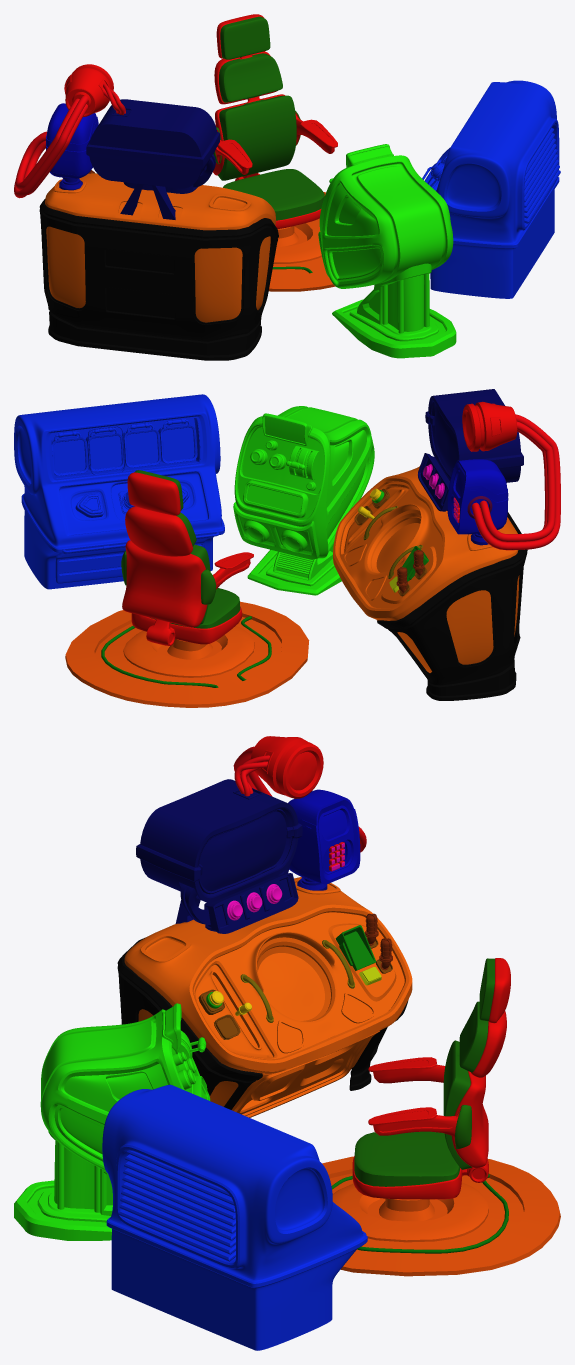
File: MachineIterTwo.fbx
3 views of the same model, one above another, from view 1: azimuth 30°, elevation 25°; view 2: azimuth 150°, elevation 25°; view 3: azimuth 270°, elevation 25° (orthographic). The views are drawn at different scales.
Parts seen in each view (by area): view 1: Maquina3Base, Maquina2Base, Maquina1Base, Mk4, Chair, ChairBase; view 2: Maquina3Base, Maquina2Base, Maquina1Base, ChairBase, Mk4, Chair, Screen4_MK2, Screen3_MK2, Screen1_MK2, Screen2_MK2, Lights_MK2; view 3: Maquina2Base, Maquina3Base, Mk4, Maquina1Base, Chair, ChairBase.
Boxes of the visible parts, <box> form: Maquina3Base: <box>39,170,278,360</box>; Maquina2Base: <box>422,80,560,298</box>; Maquina1Base: <box>318,144,456,358</box>; Mk4: <box>14,64,220,219</box>; Chair: <box>213,14,337,228</box>; ChairBase: <box>268,192,335,291</box>; Maquina3Base: <box>333,465,527,700</box>; Maquina2Base: <box>14,394,224,589</box>; Maquina1Base: <box>233,406,374,595</box>; ChairBase: <box>65,601,309,707</box>; Mk4: <box>418,389,560,550</box>; Chair: <box>121,470,253,645</box>; Screen4_MK2: <box>158,424,197,463</box>; Screen3_MK2: <box>122,428,161,467</box>; Screen1_MK2: <box>51,436,88,475</box>; Screen2_MK2: <box>85,432,123,471</box>; Lights_MK2: <box>53,419,191,441</box>; Maquina2Base: <box>102,1084,367,1350</box>; Maquina3Base: <box>117,877,412,1117</box>; Mk4: <box>136,736,366,933</box>; Maquina1Base: <box>14,1003,210,1240</box>; Chair: <box>352,958,510,1199</box>; ChairBase: <box>322,1156,560,1276</box>.
Size of the model in its own units: 462 by 220 by 327.
